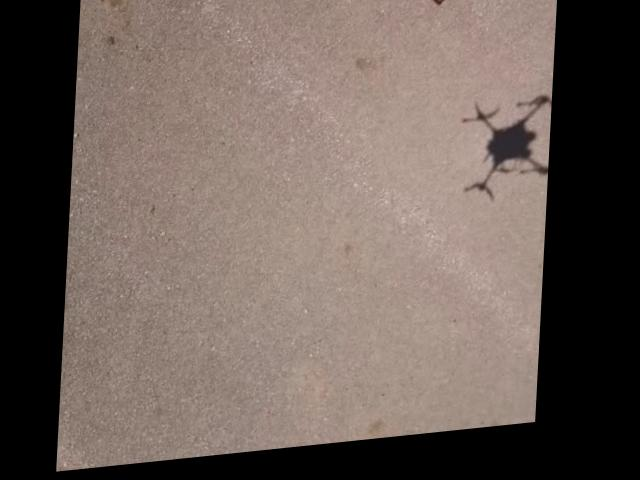fire-poster: (368, 0, 521, 22)
